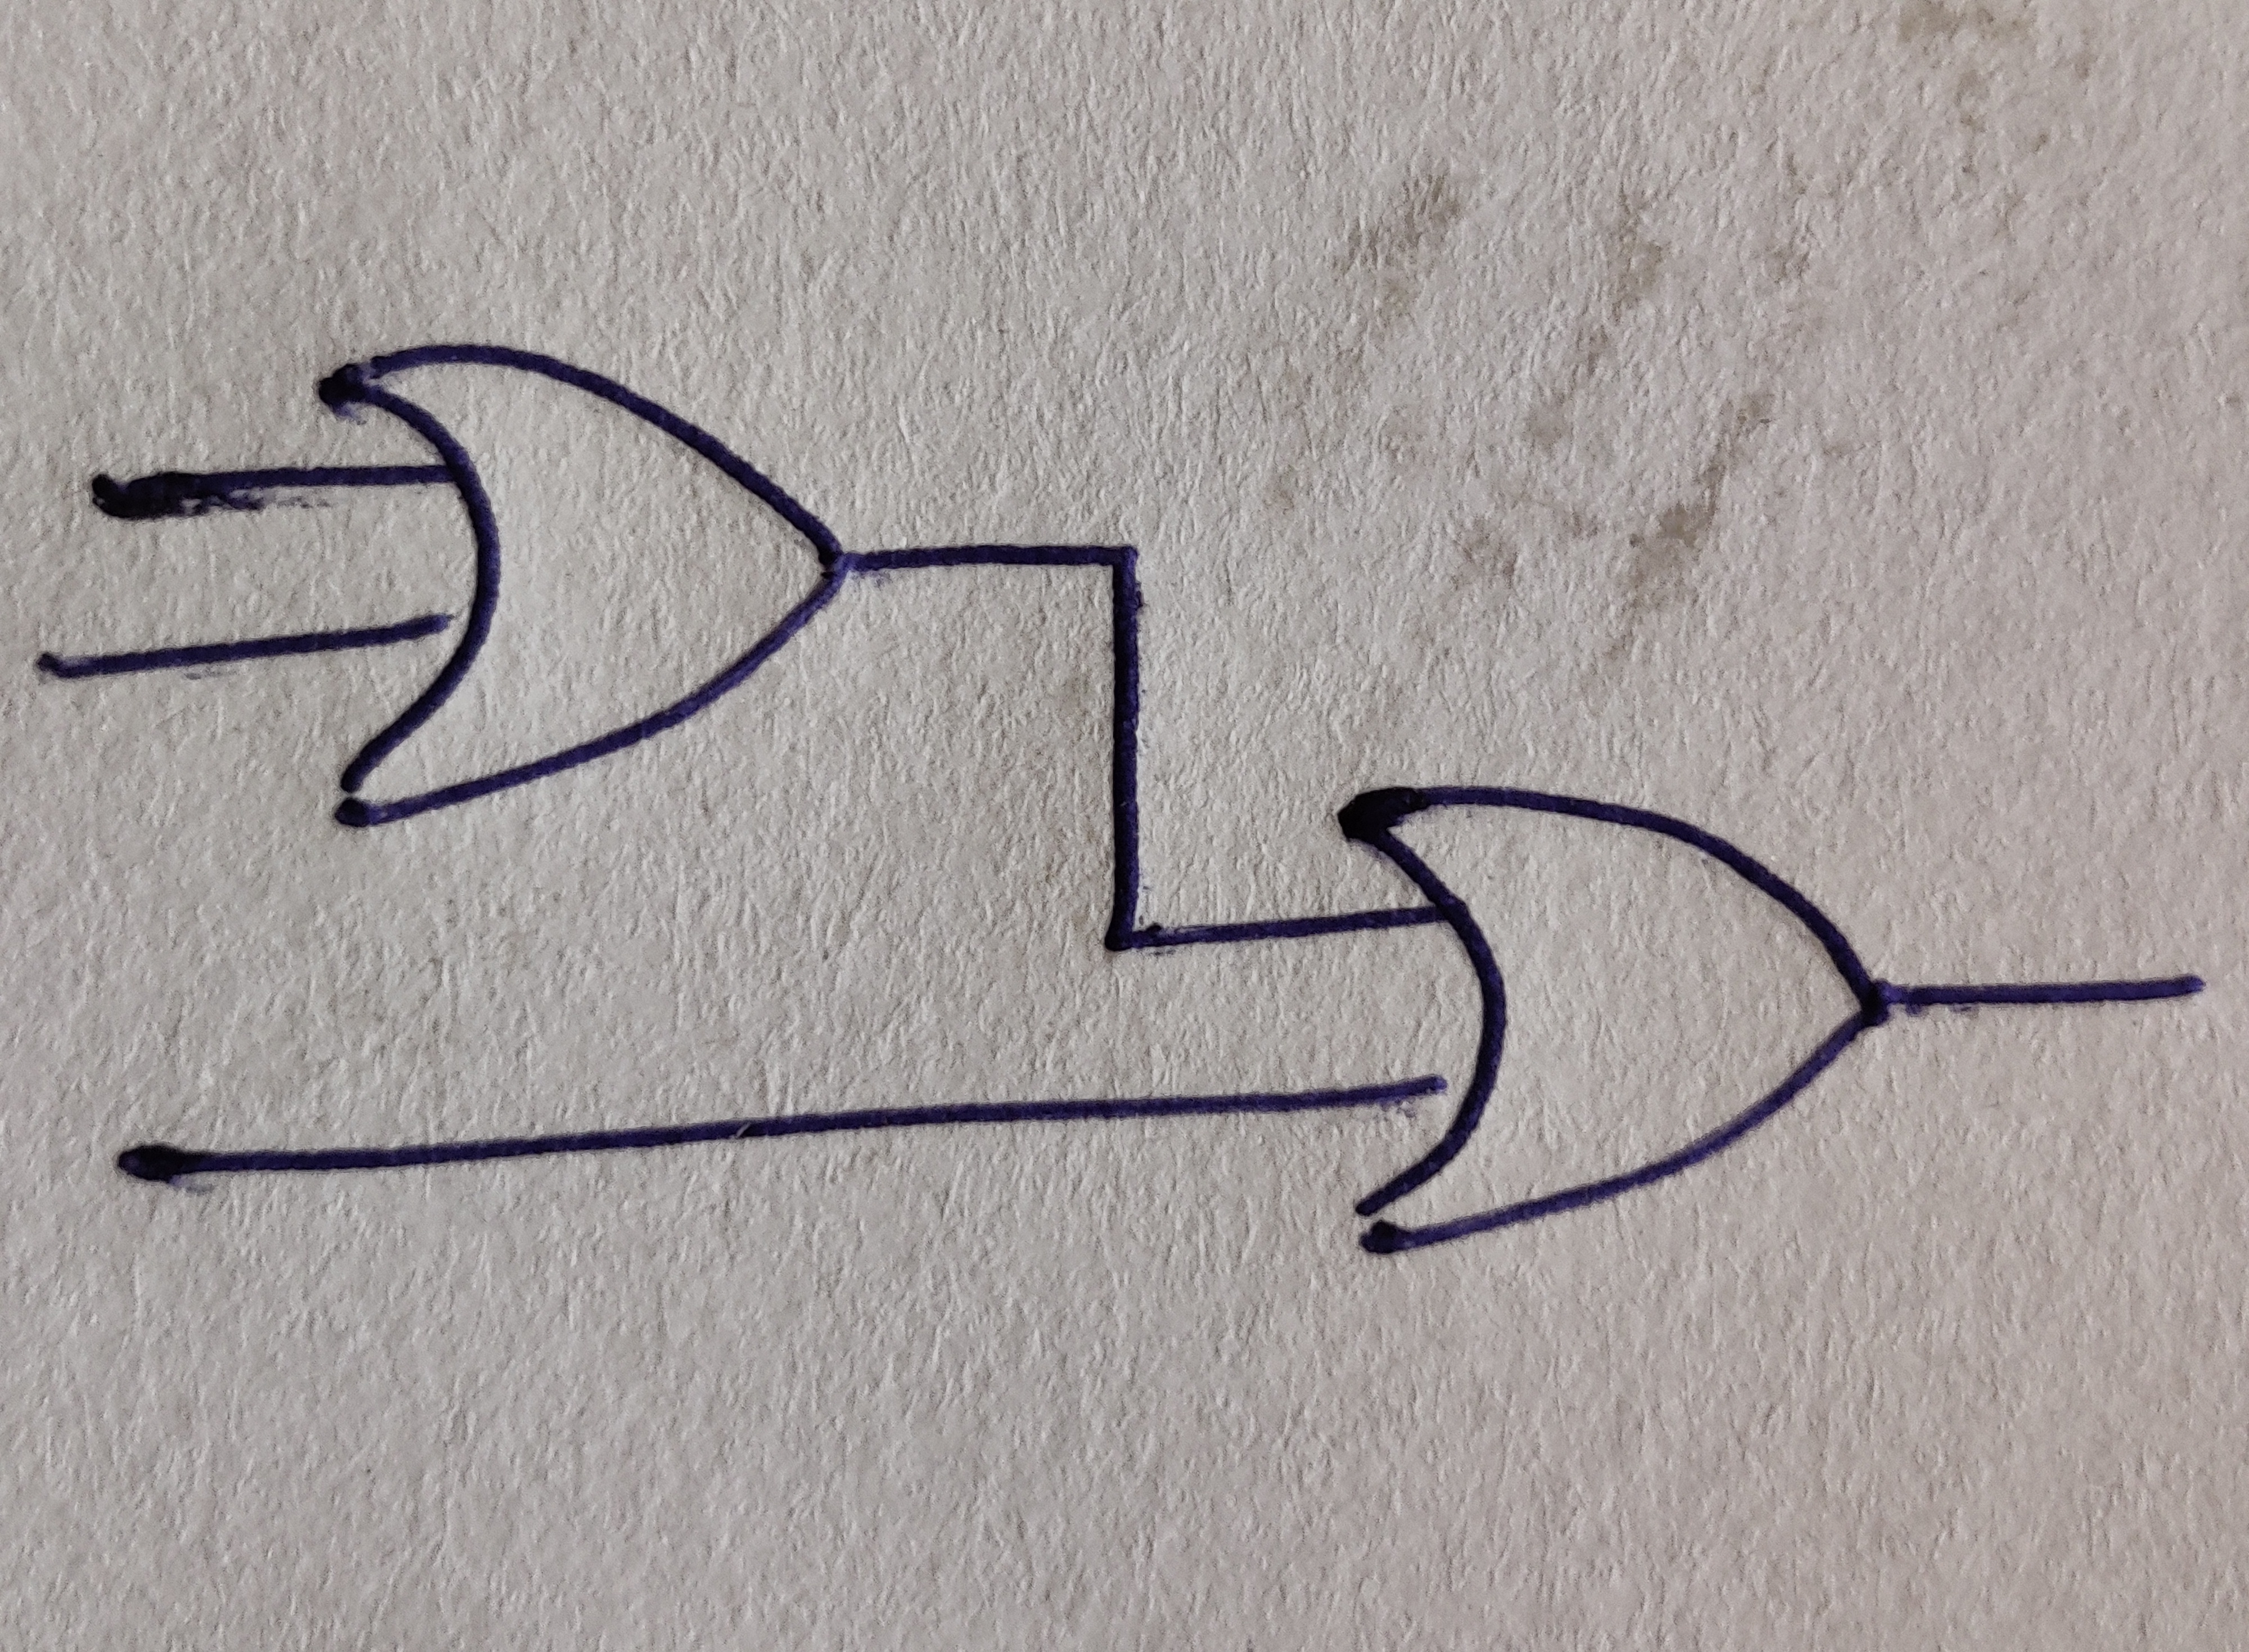or: (314, 339, 849, 831), (1338, 786, 1888, 1252)
